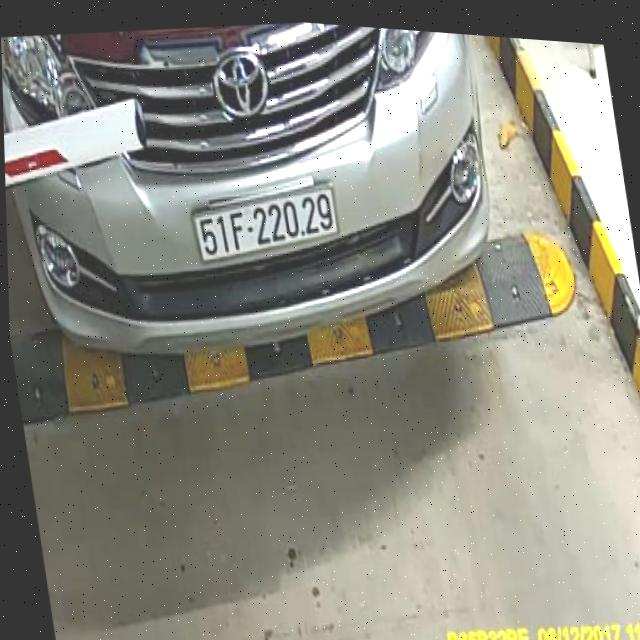car: (0, 0, 529, 401)
plate: (187, 178, 344, 270)
